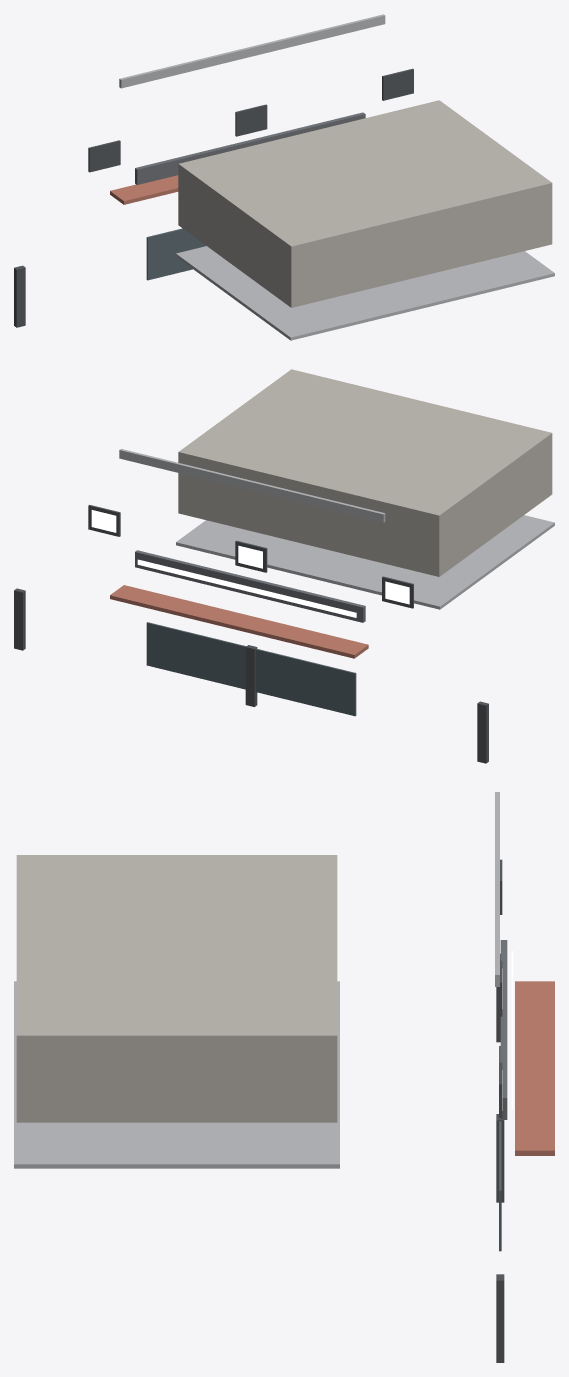
The model's file is shop-low.glb.
The picture shows the model from 3 angles, top to bottom: view 1: azimuth 30°, elevation 25°; view 2: azimuth 150°, elevation 25°; view 3: azimuth 270°, elevation 25°; orthographic projection. The views are drawn at different scales.
Parts seen in each view (by area): view 1: Building; view 2: Building, WinGlow; view 3: Building.
Boxes of the visible parts, box(x1,y1,x2,y2) form: Building: box(14, 14, 554, 340); Building: box(14, 369, 554, 763); WinGlow: box(91, 510, 409, 604); Building: box(14, 792, 554, 1362).
Bounding box in the file's own units: 14.47 × 6.52 × 10.12.
